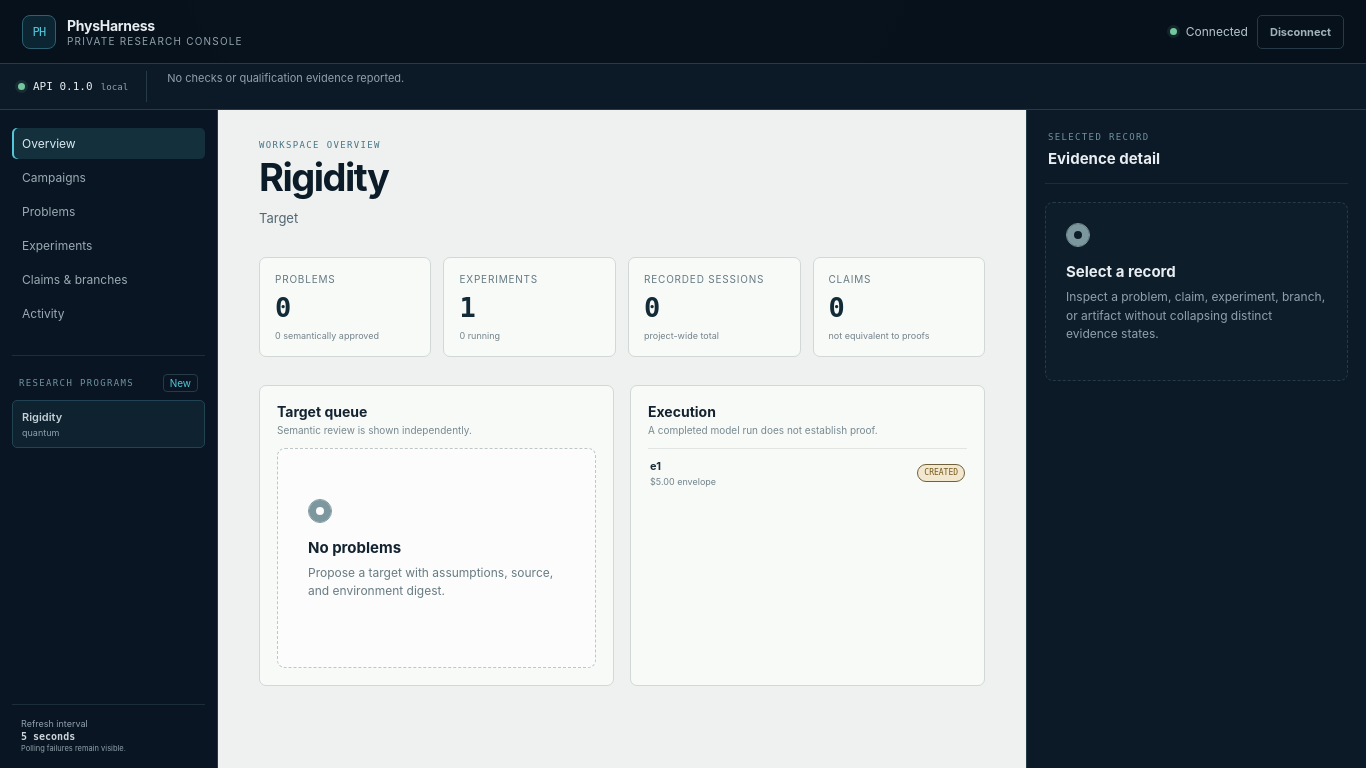
it: allows pause and cancellation in list and detail after starting a created experiment
Click the button "Experiments".
click(108, 246)  # box [12,230,205,261]
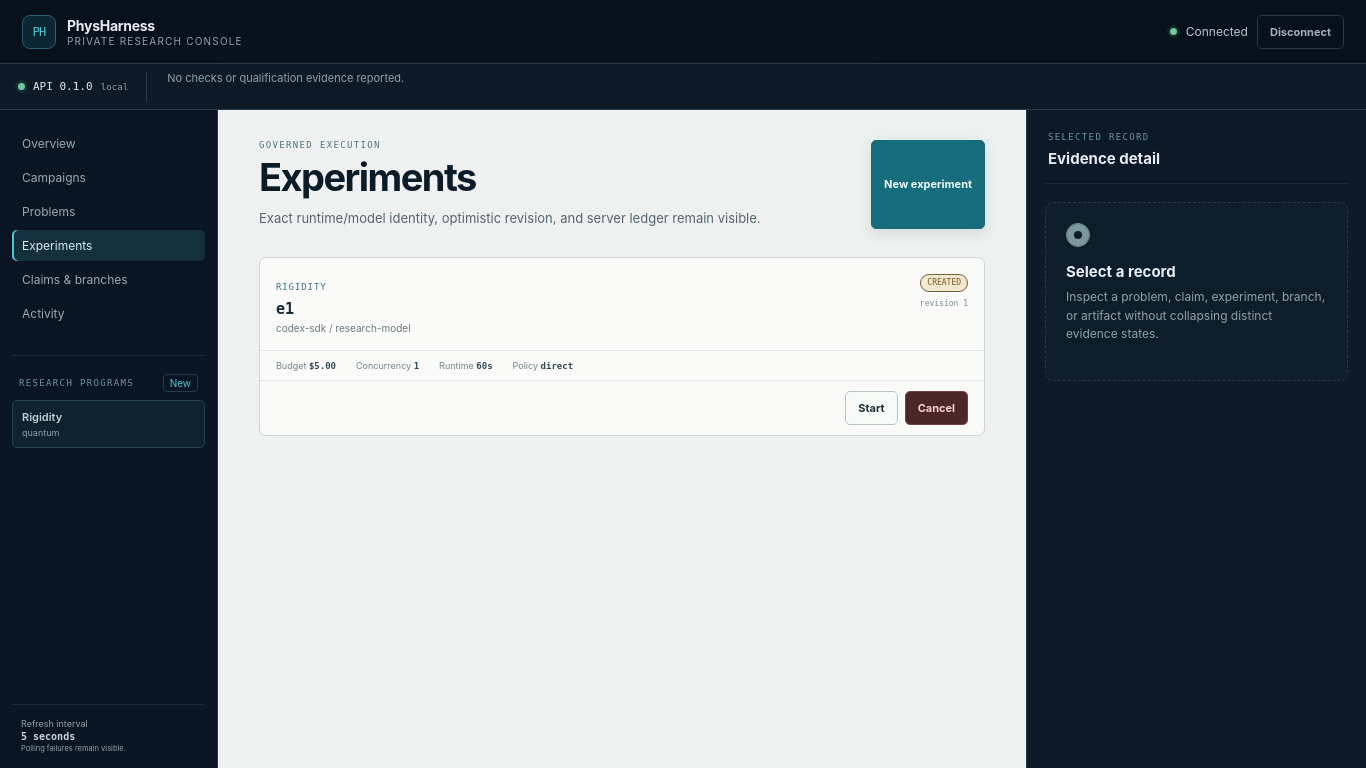
Click the button with aria-label "start experiment".
click(871, 408)  # box [845,391,898,425]
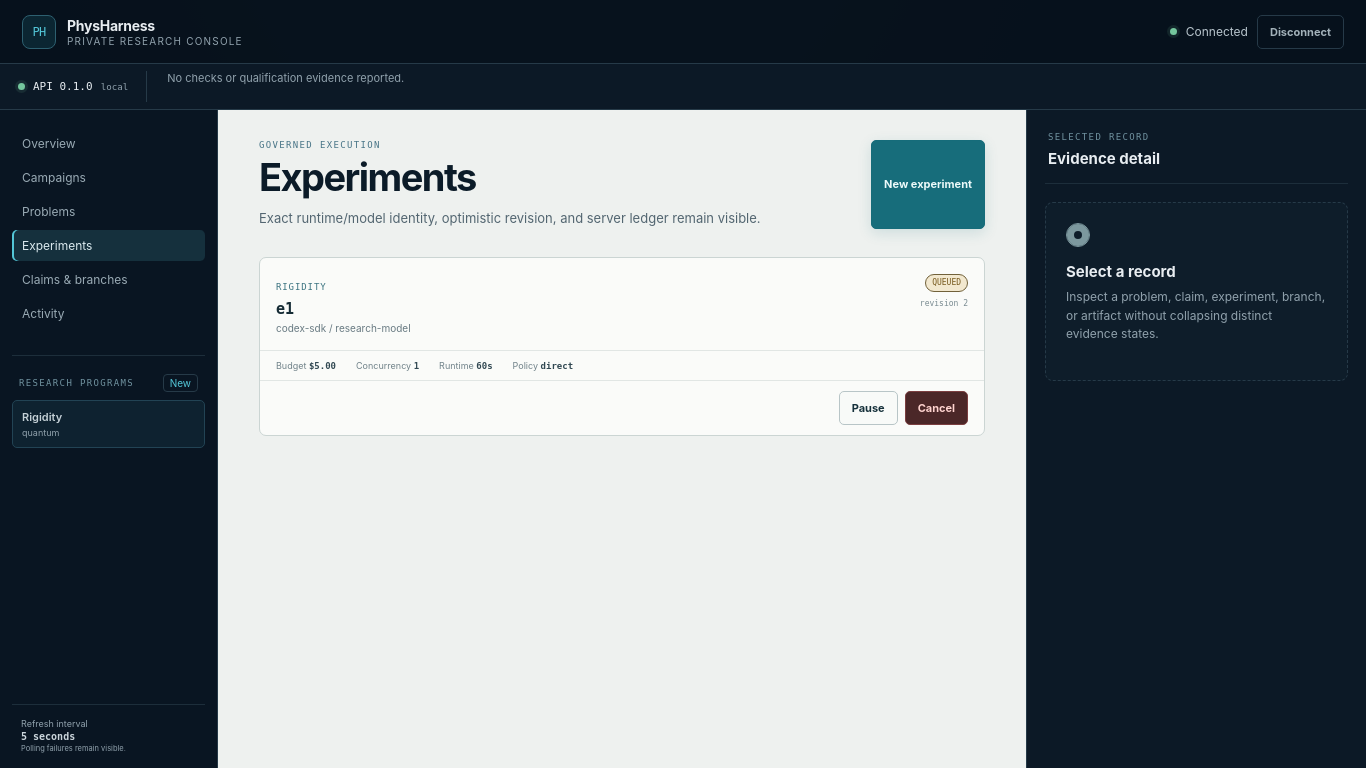
Expected: the button with aria-label "cancel experiment" is shown, [905,391,968,425]
Expected: the button with aria-label "pause experiment" is shown, [839,391,898,425]
Click the button with aria-label "open experiment rigidity".
click(301, 287)  # box [260,258,984,350]
(page scrolled)
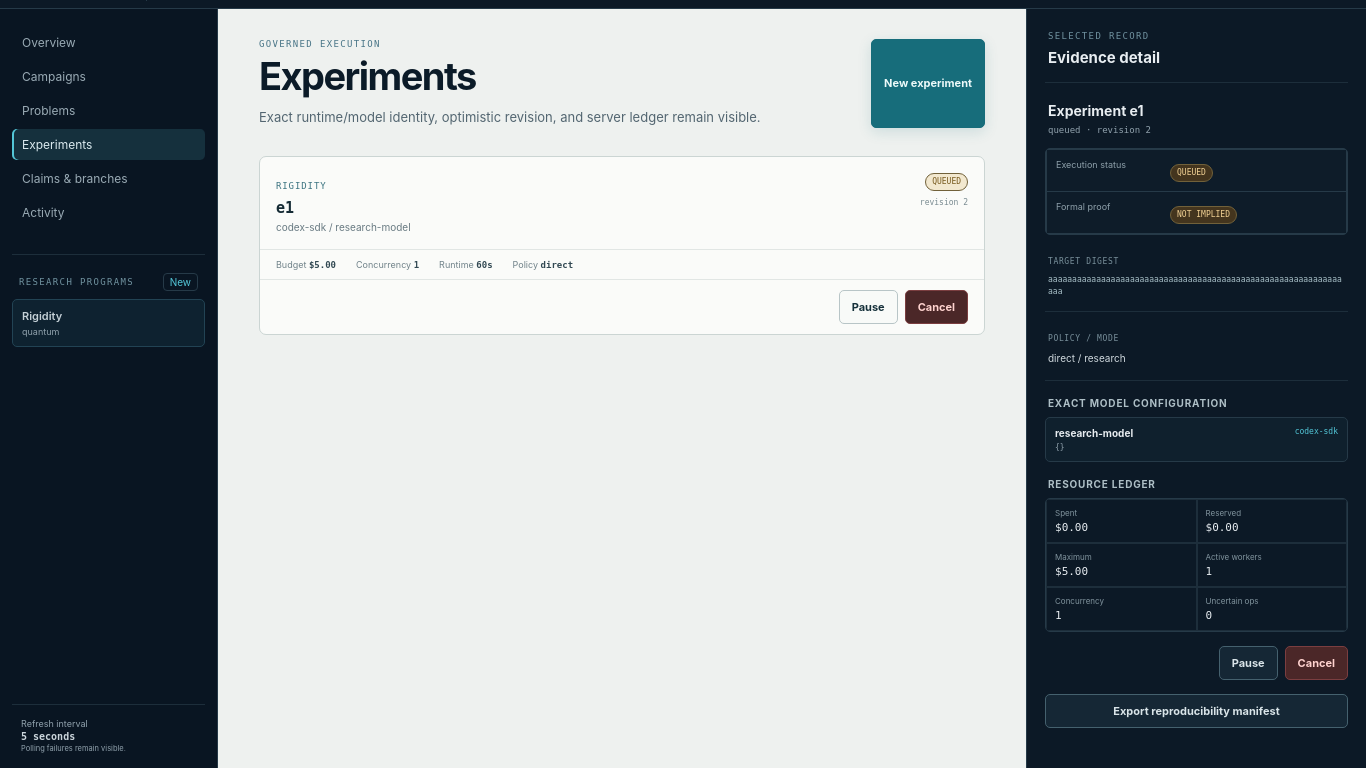
Expected: the button with aria-label "pause experiment" is shown, [1219,646,1278,680]
Expected: the button with aria-label "cancel experiment" is shown, [1285,646,1348,680]
